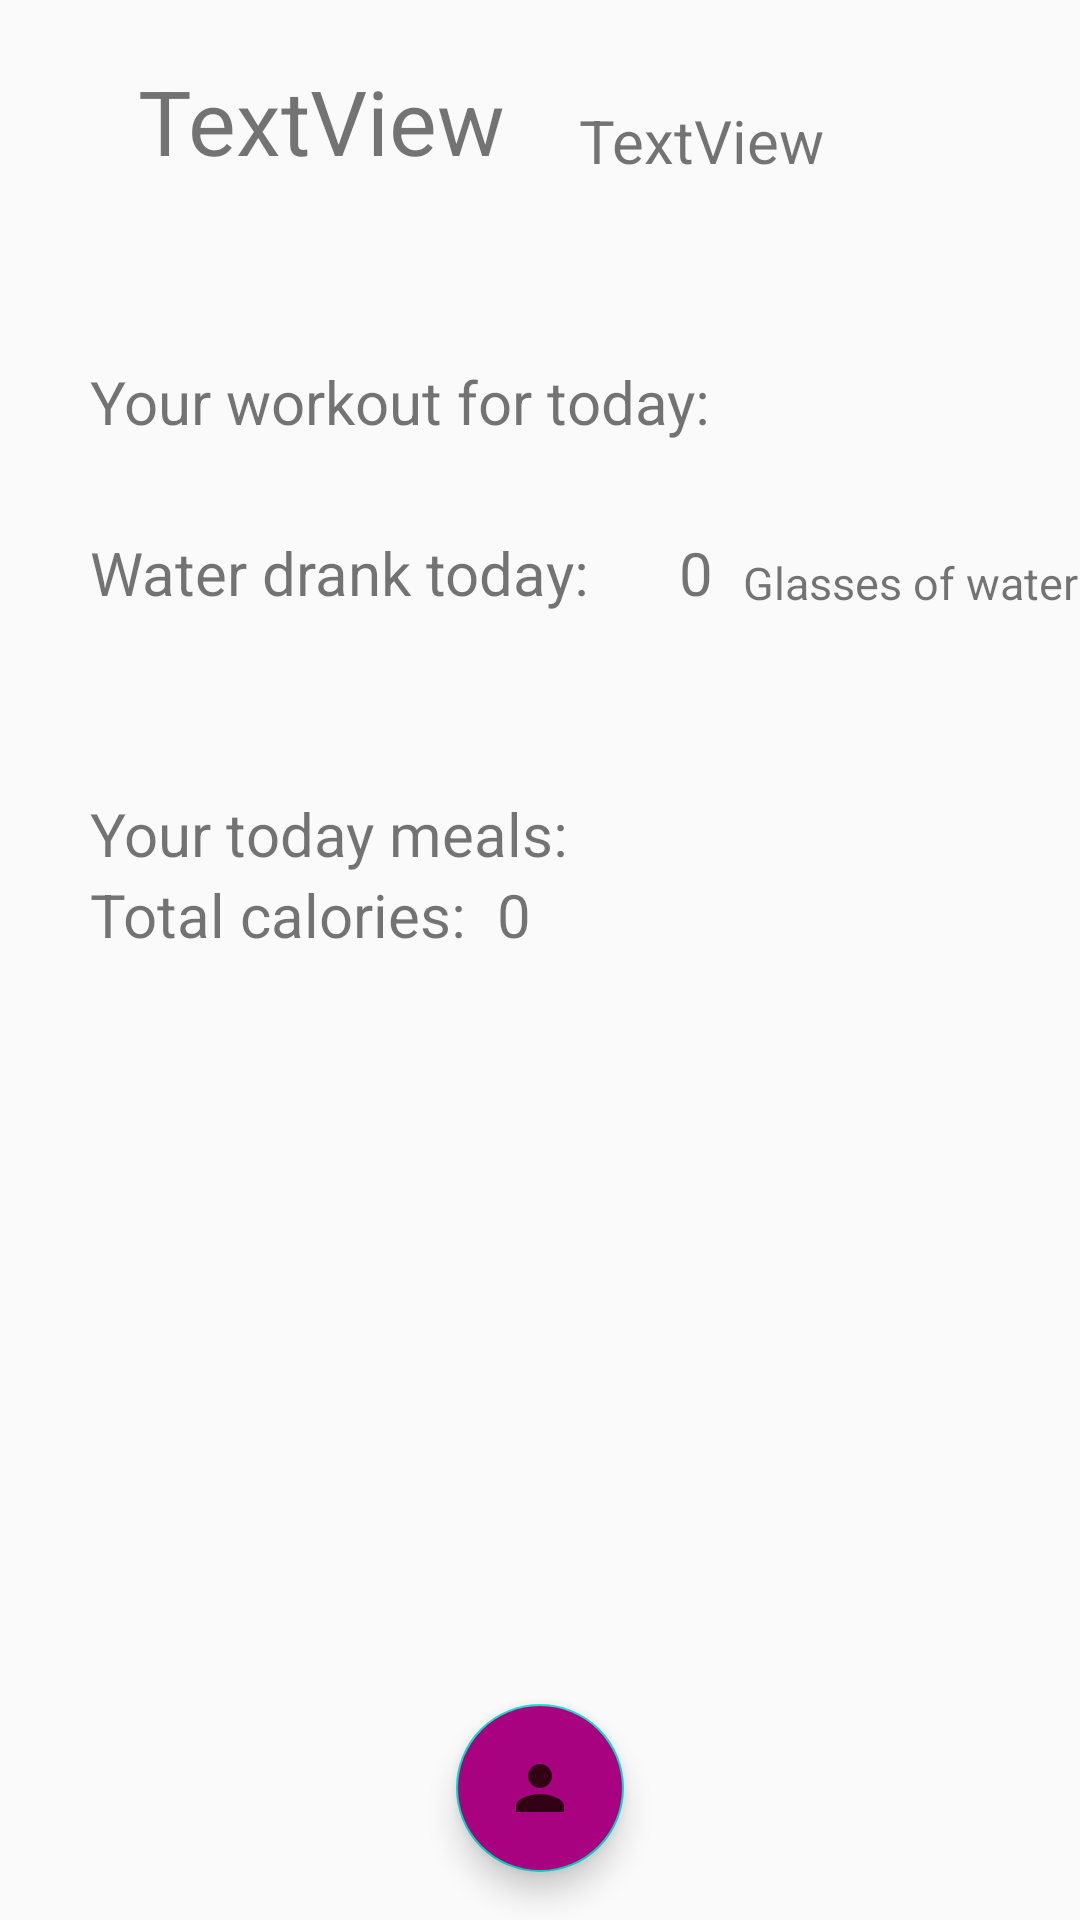

Where icons sit on this 1080px×1920px app screen, as (x1, y1, x2, y2):
profile: (456, 1704, 624, 1872)
